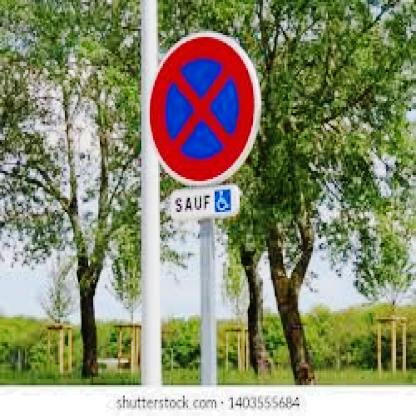No stopping: (150, 34, 258, 186)
